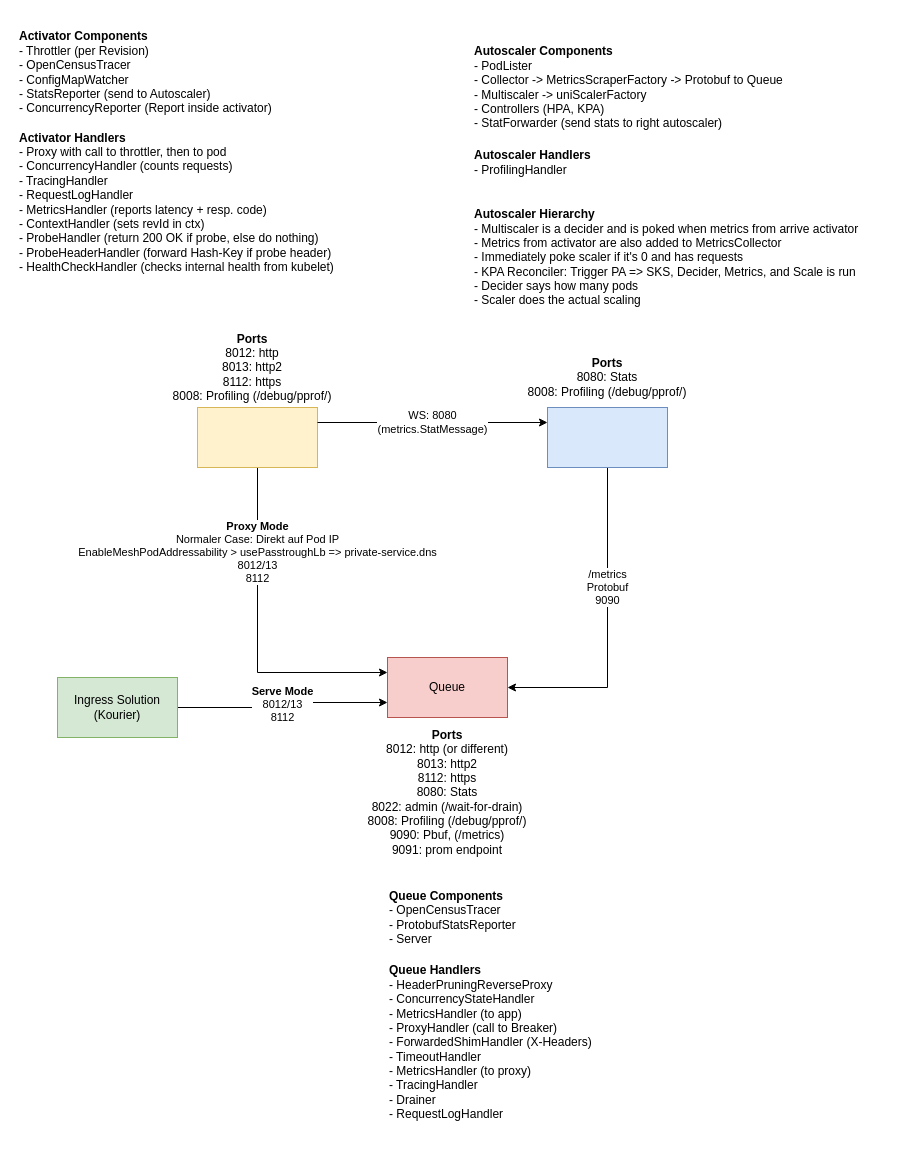
Some shapes in this 914 by 1154 pixel diagram are drawn without their labels. Each missing label, with the centre of its shape:
Activator: point 257,437
Autoscaler: point 607,437
